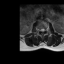CCS_normal: (42, 27, 43, 34)
LFS_normal: (45, 27, 47, 32)
LLS_normal: (43, 27, 45, 33)
RFS_normal: (38, 27, 40, 33)
RLS_normal: (40, 27, 42, 33)
